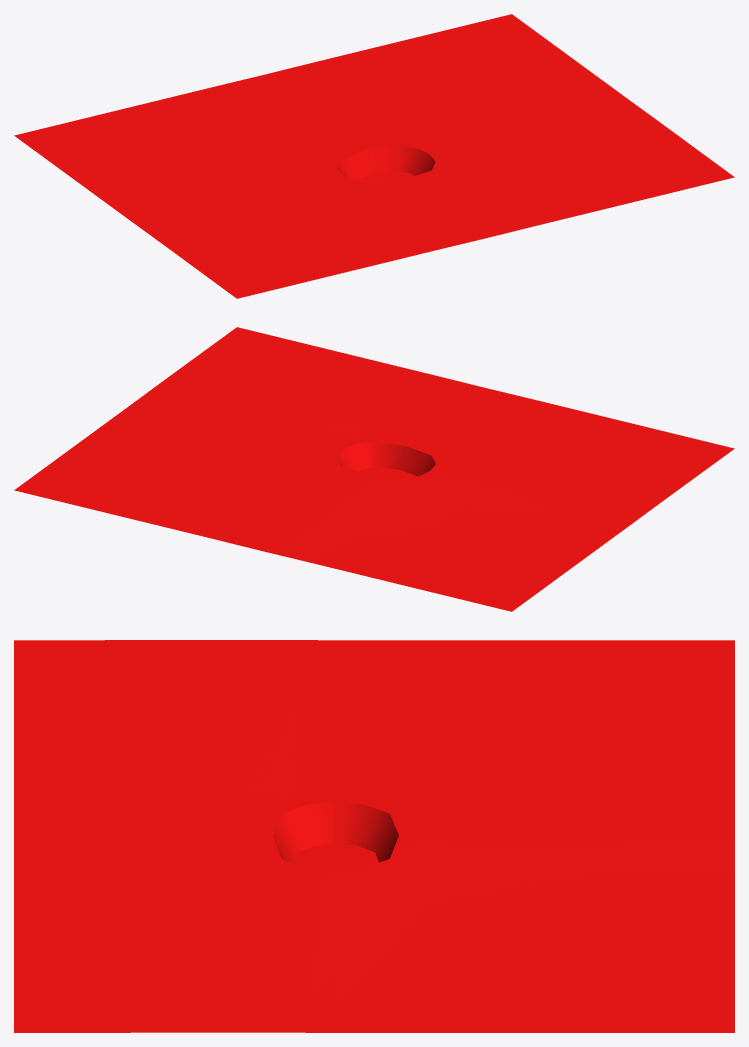
File: Forest_Pit_01.fbx
3 views of the same model, one above another, from view 1: azimuth 30°, elevation 25°; view 2: azimuth 150°, elevation 25°; view 3: azimuth 270°, elevation 25° (orthographic). The views are drawn at different scales.
Parts seen in each view (by area): view 1: Object002; view 2: Object002; view 3: Object002.
Part boxes in pixels (left/top/right/bottom): Object002: left=14, top=14, right=734, bottom=298; Object002: left=14, top=327, right=734, bottom=611; Object002: left=14, top=640, right=734, bottom=1032.
Bounding box in the file's own units: 1585 × 62.92 × 1230.
